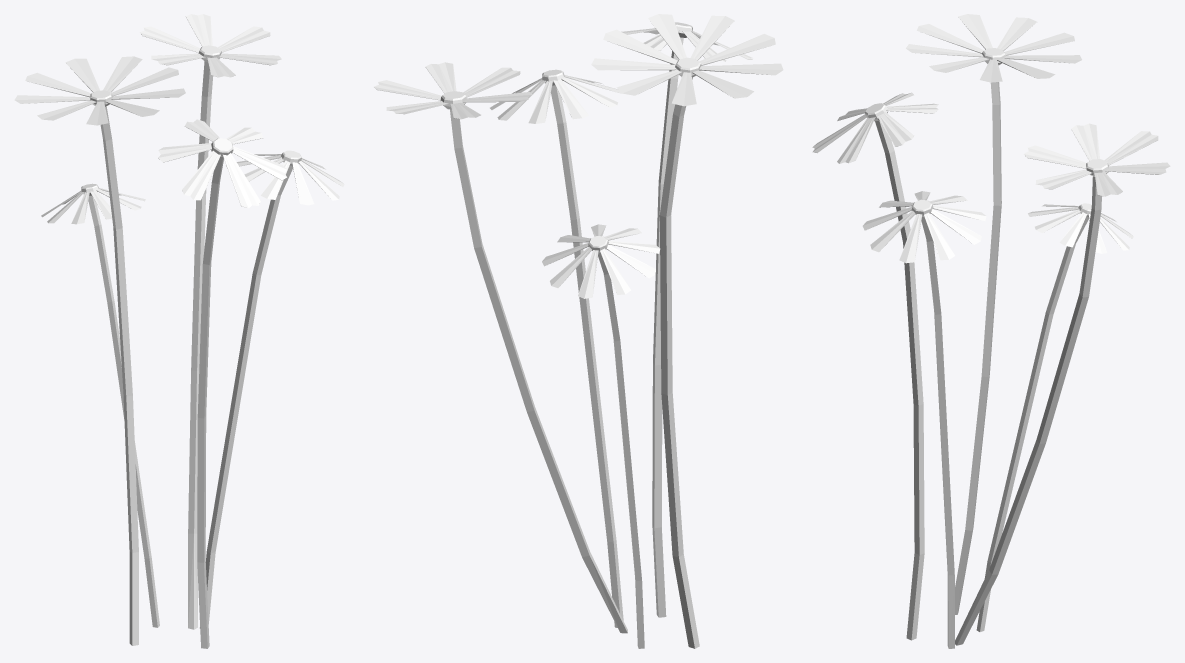
The model's file is Env_Flower_Patch_03.glb.
3 views of the same model, side by side, from view 1: azimuth 30°, elevation 25°; view 2: azimuth 150°, elevation 25°; view 3: azimuth 270°, elevation 25° (orthographic). The views are drawn at different scales.
Parts seen in each view (by area): view 1: Env_Flower_Patch_03; view 2: Env_Flower_Patch_03; view 3: Env_Flower_Patch_03.
Boxes of the visible parts, x1,y1,x2,y2 form: Env_Flower_Patch_03: [14, 14, 344, 648]; Env_Flower_Patch_03: [374, 14, 783, 648]; Env_Flower_Patch_03: [812, 14, 1170, 648].
Bounding box in the file's own units: 0.2948 × 0.5225 × 0.3012.
Materials: 1 (1 with a texture image).
